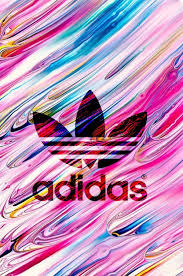adidas: (33, 90, 148, 202)
